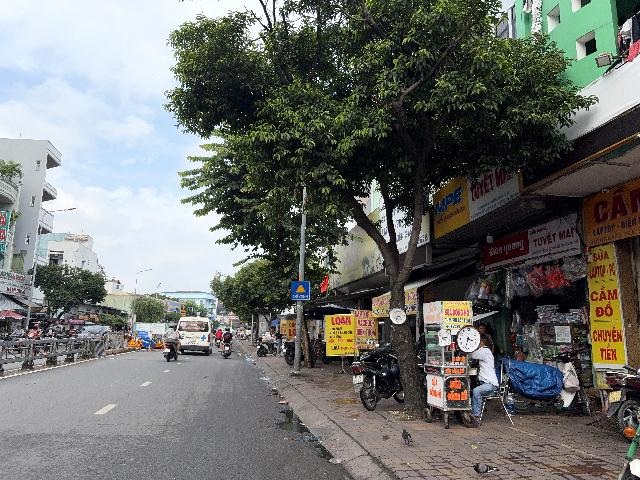khu-vuc-cho-phia-truoc: (291, 281, 310, 300)
